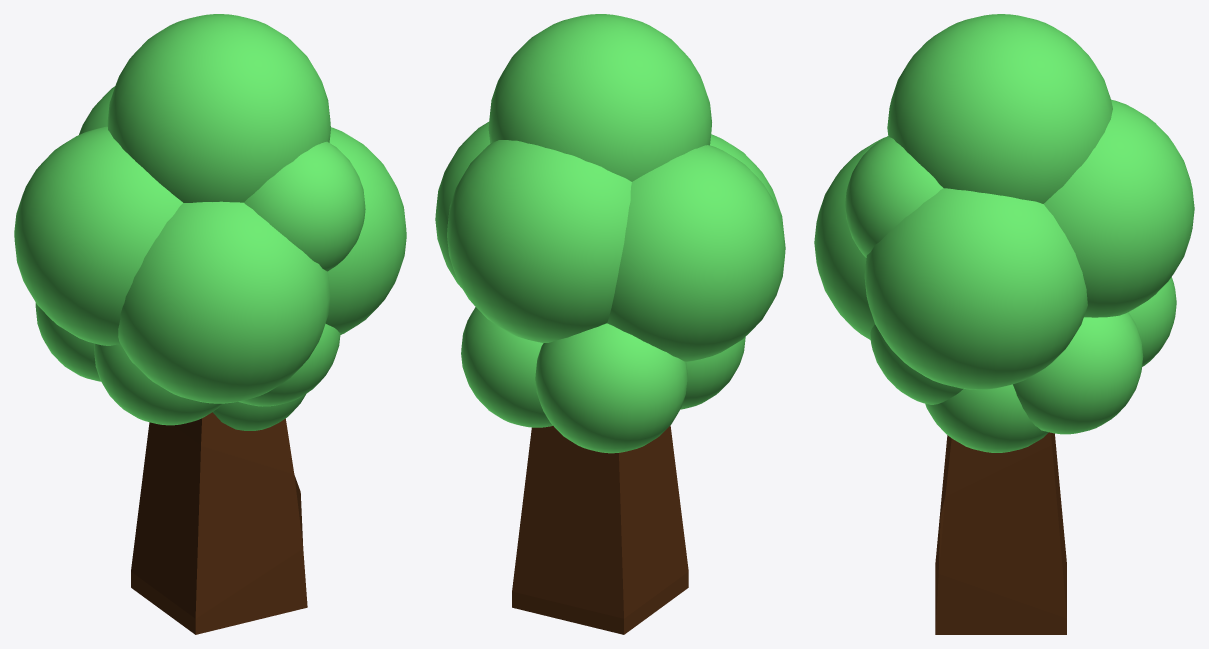
File: derewo.glb
3 renders of one model, left to right at view 1: azimuth 30°, elevation 25°; view 2: azimuth 150°, elevation 25°; view 3: azimuth 270°, elevation 25°, orthographic.
Parts seen in each view (by area): view 1: Sphere; view 2: Sphere; view 3: Sphere.
Part boxes in pixels (x1,y1,x2,y2): Sphere: (14,14,406,634); Sphere: (435,14,785,634); Sphere: (814,14,1194,634).
Size of the model in its own units: 6.52 by 10.45 by 6.18.
